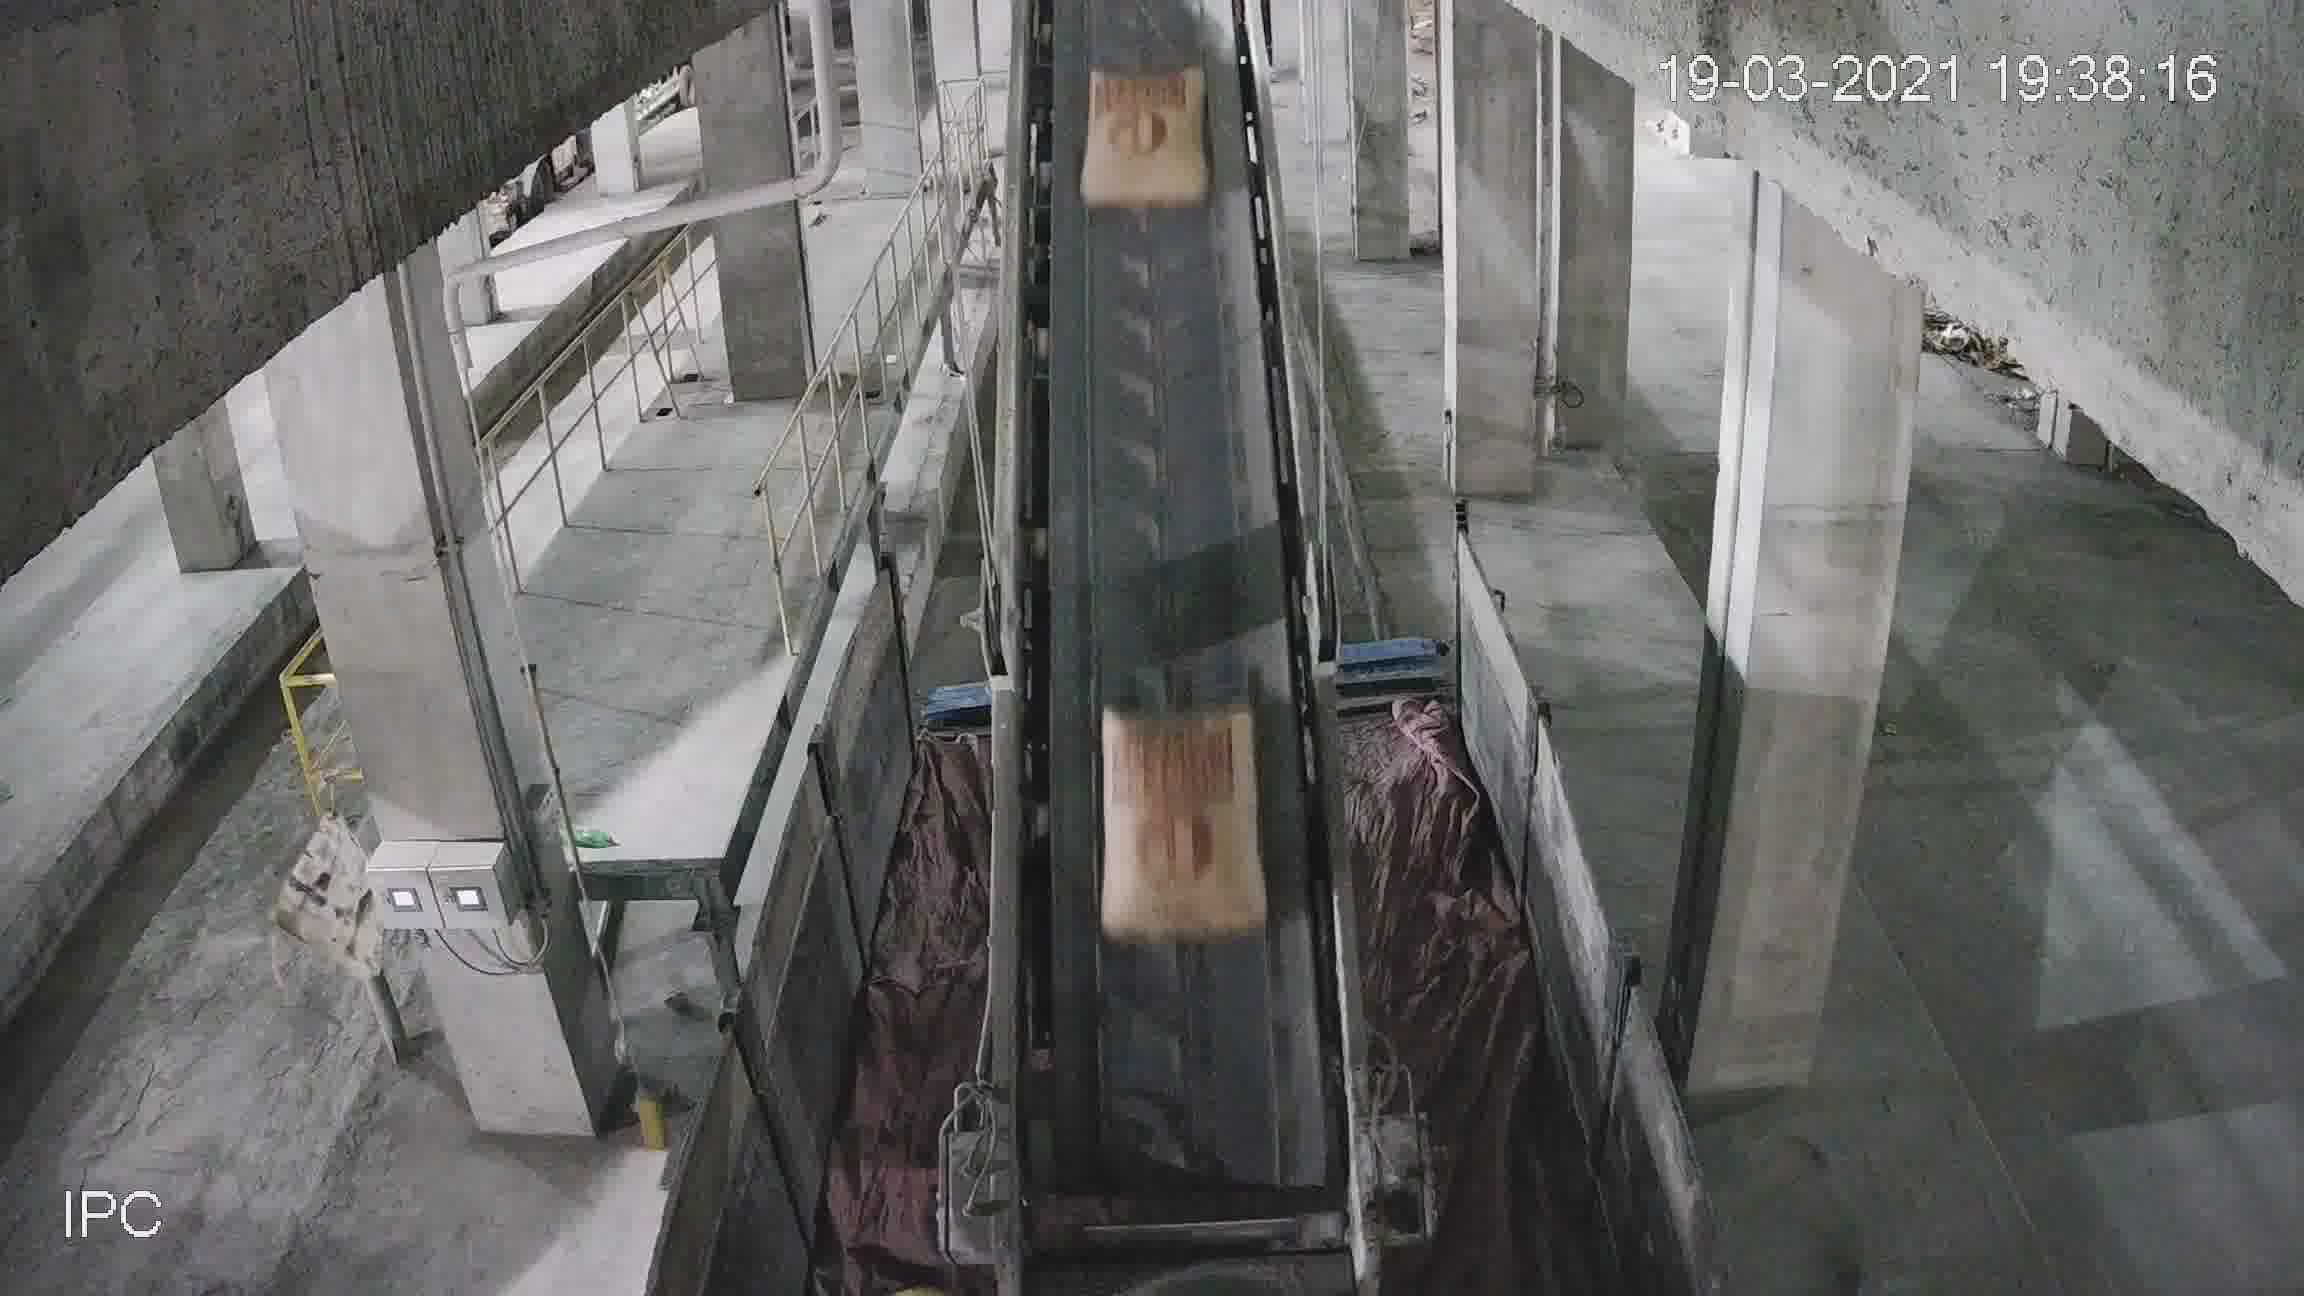bag: (1100, 699, 1266, 935), (1084, 73, 1211, 214)
belt: (1006, 85, 1328, 1203)
